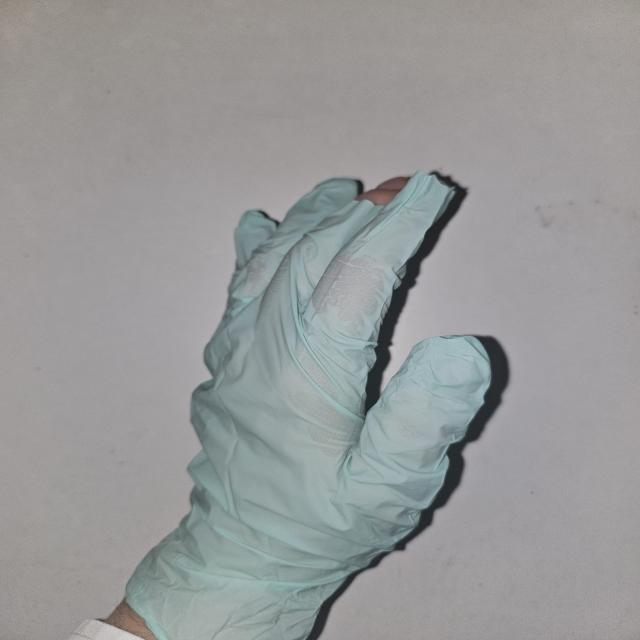gloves_damaged: (121, 168, 502, 640)
